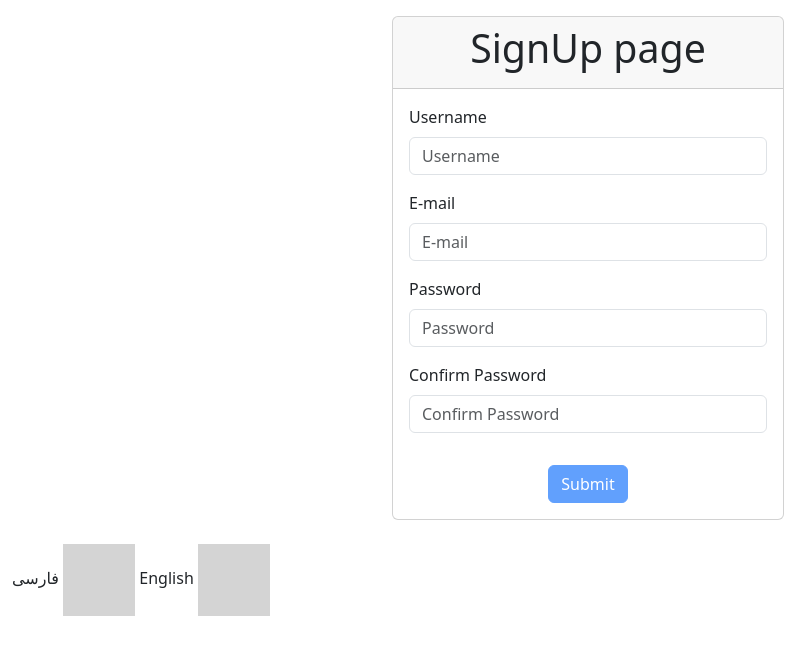
Test: SignUp page › Internationalization › shows password validation text in FA
Type "a password" into the password field with placeholder "Password" at (588, 328), box top-left (409, 309), bottom-right (767, 347)
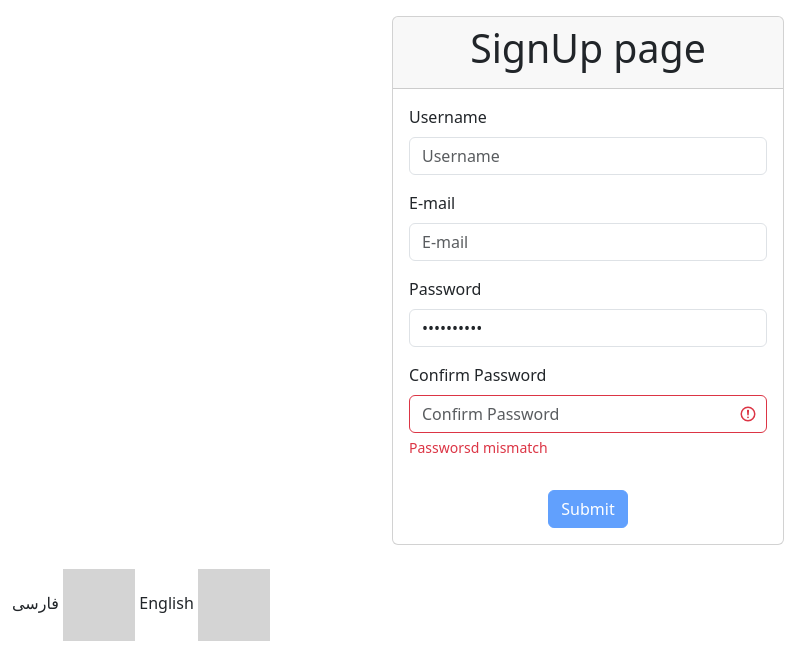
Type "a different password" into the password field with placeholder "Confirm Password" at (588, 414), box top-left (409, 395), bottom-right (767, 433)
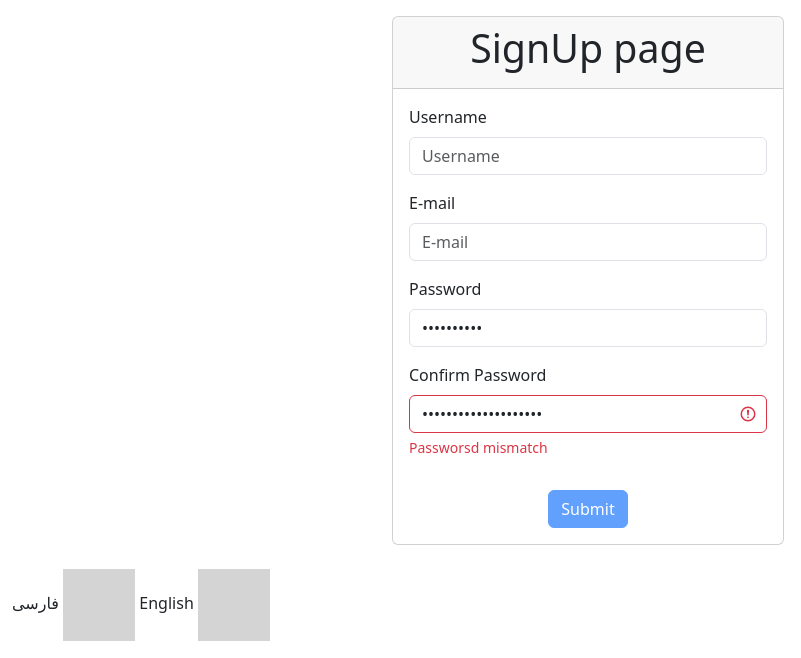
Click the element titled "فارسی" at (74, 603), box top-left (12, 592), bottom-right (135, 614)
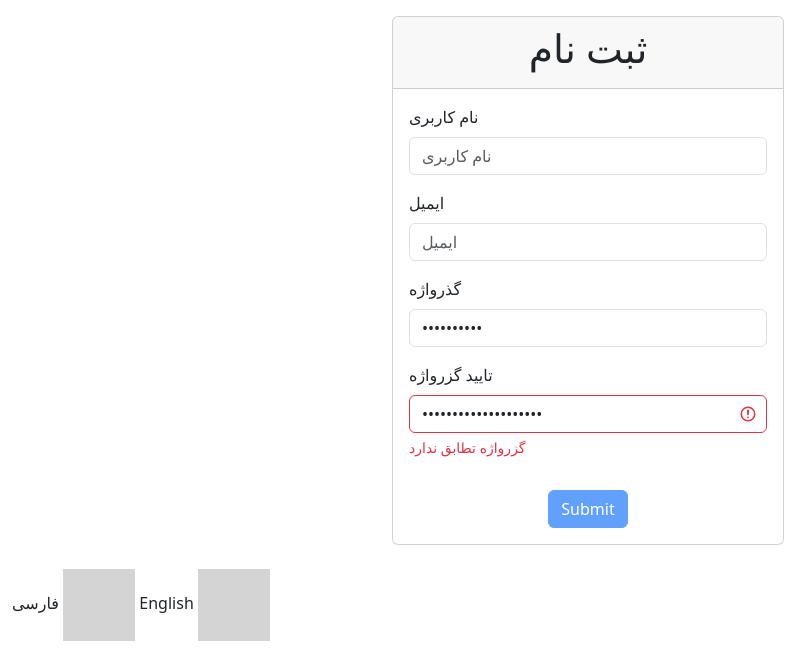
Result: the text with test id "confirm-password" reads "گزرواژه تطابق ندارد" at top-left (409, 438), bottom-right (526, 457)
